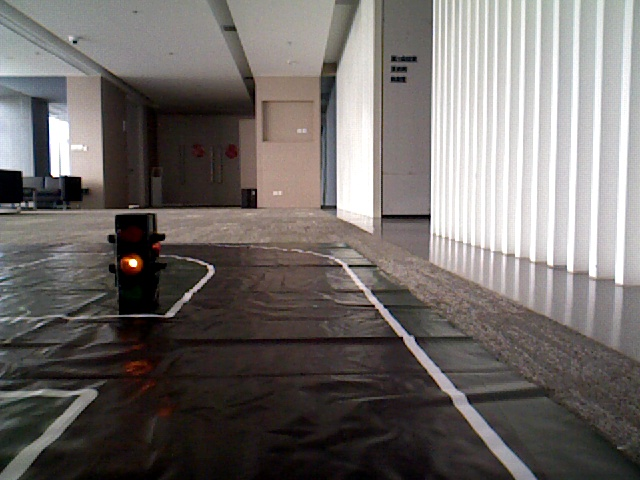yellow: (112, 216, 154, 304)
